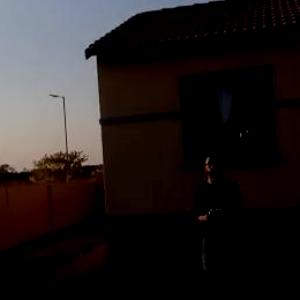follow: (176, 143, 250, 299)
